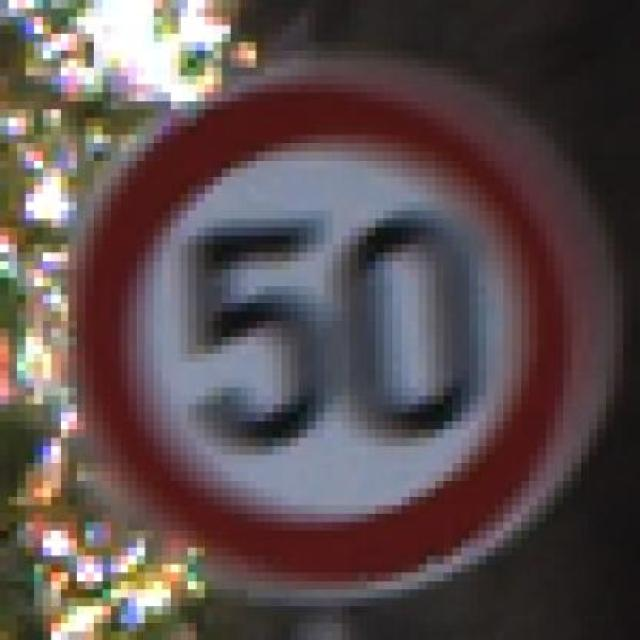Speed limit 50: (75, 54, 624, 600)
